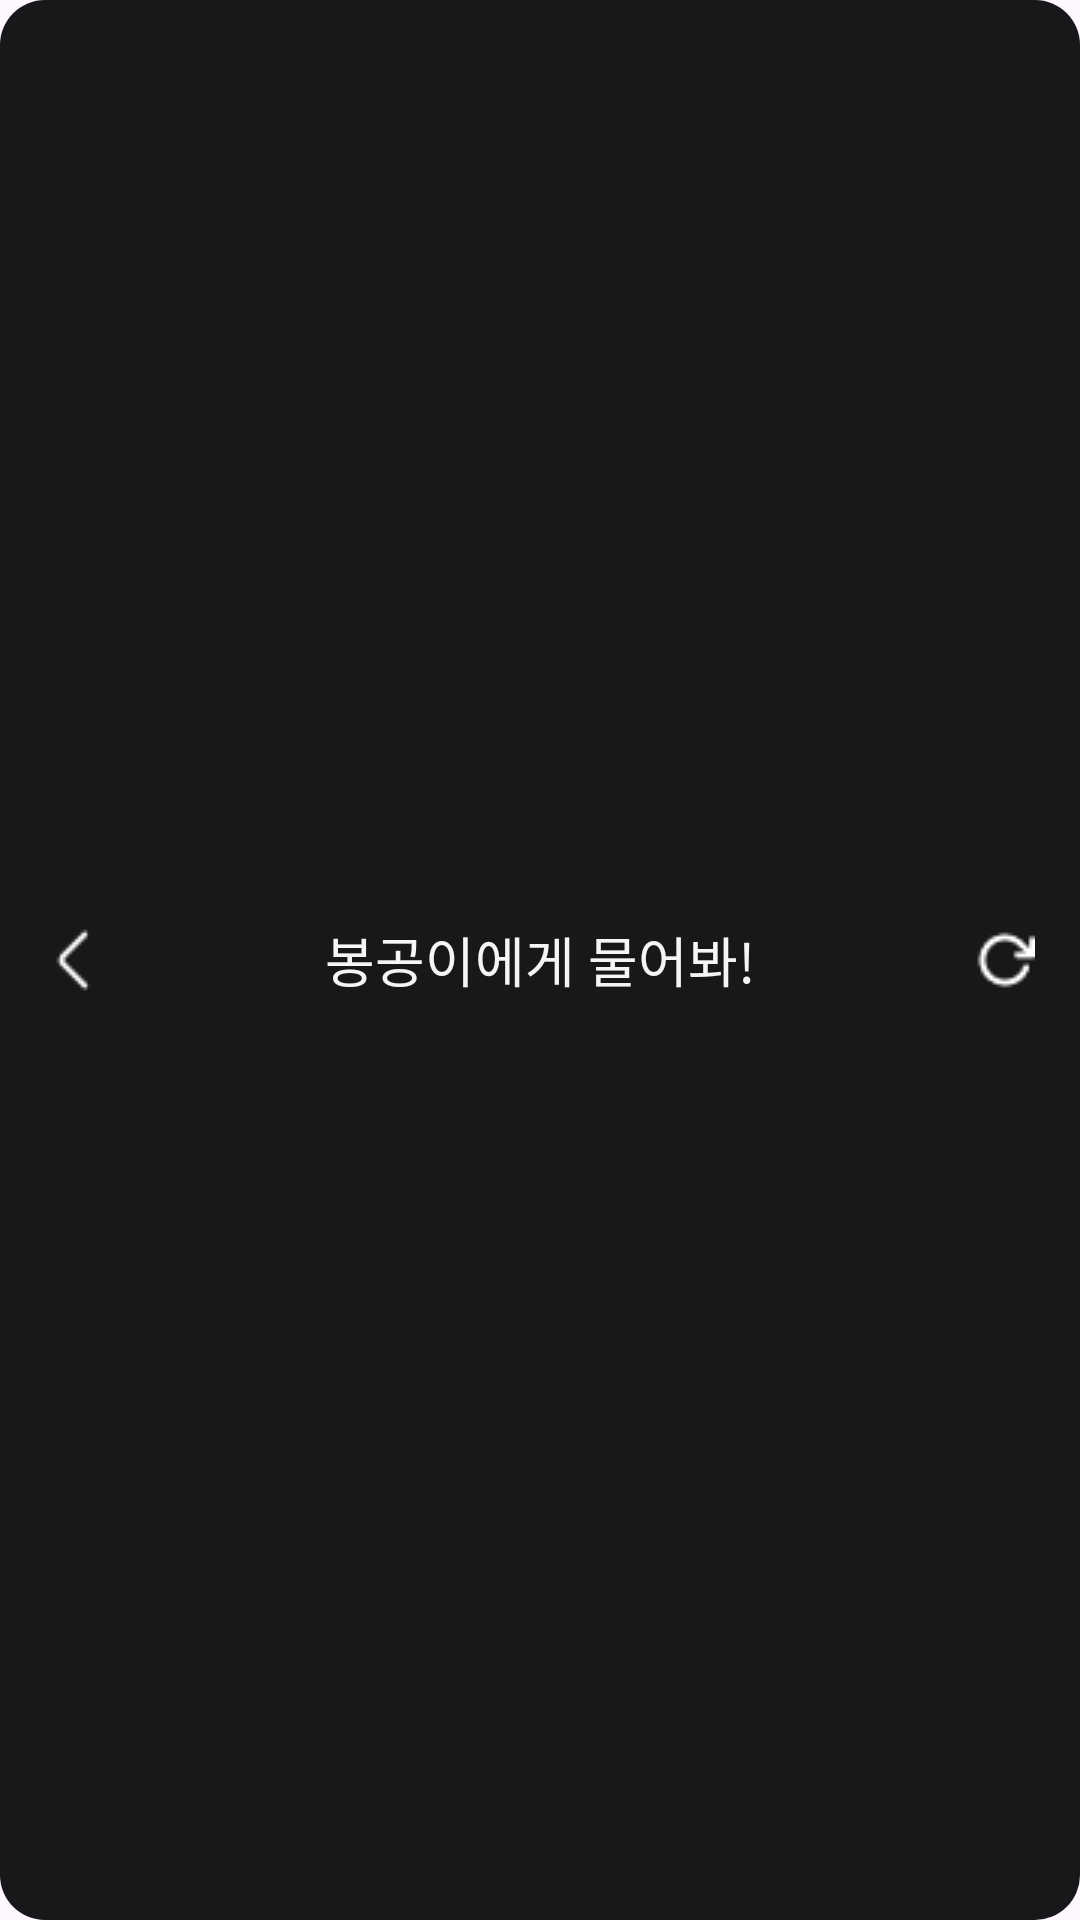

Point at icon controls on the screen. Image size 1080×1920, points as [x,y].
reset: [1006,960]
이전: [73,960]
